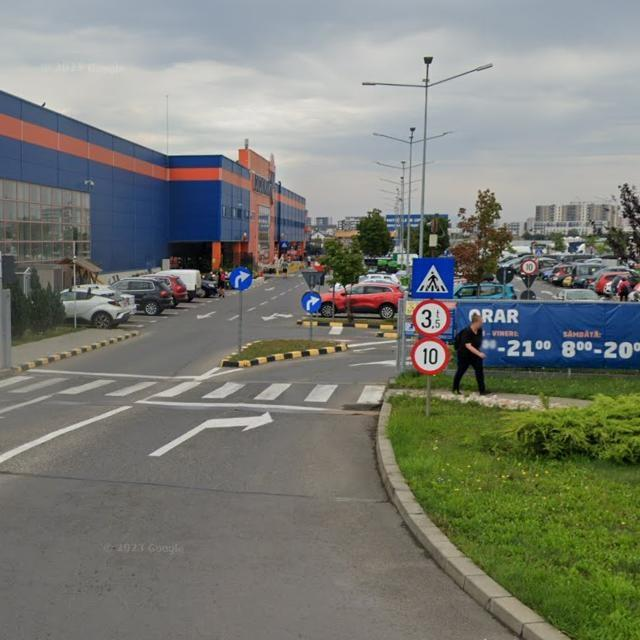forb_speed_over_10: (411, 338, 450, 376), (521, 259, 538, 275)
info_crosswalk: (413, 257, 454, 299)
